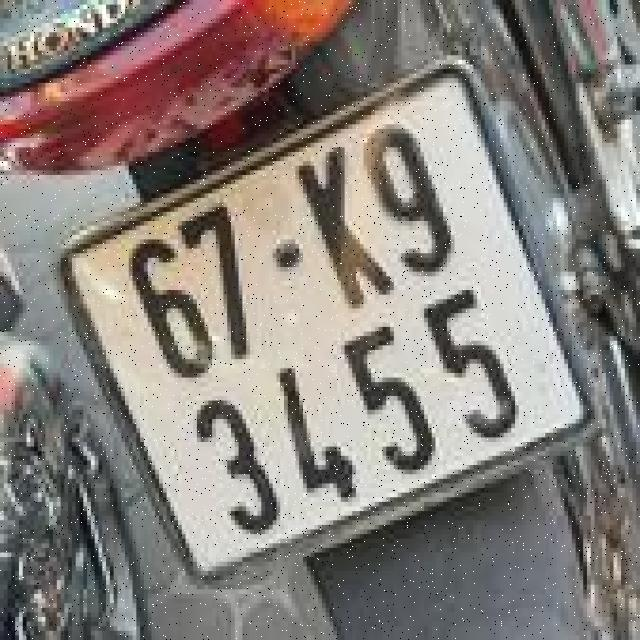3: (181, 377, 289, 545)
4: (263, 345, 367, 517)
5: (328, 306, 455, 491), (411, 273, 533, 450)
6: (119, 218, 226, 393)
7: (174, 193, 270, 372)
9: (350, 103, 471, 292)
K: (283, 133, 408, 328)
